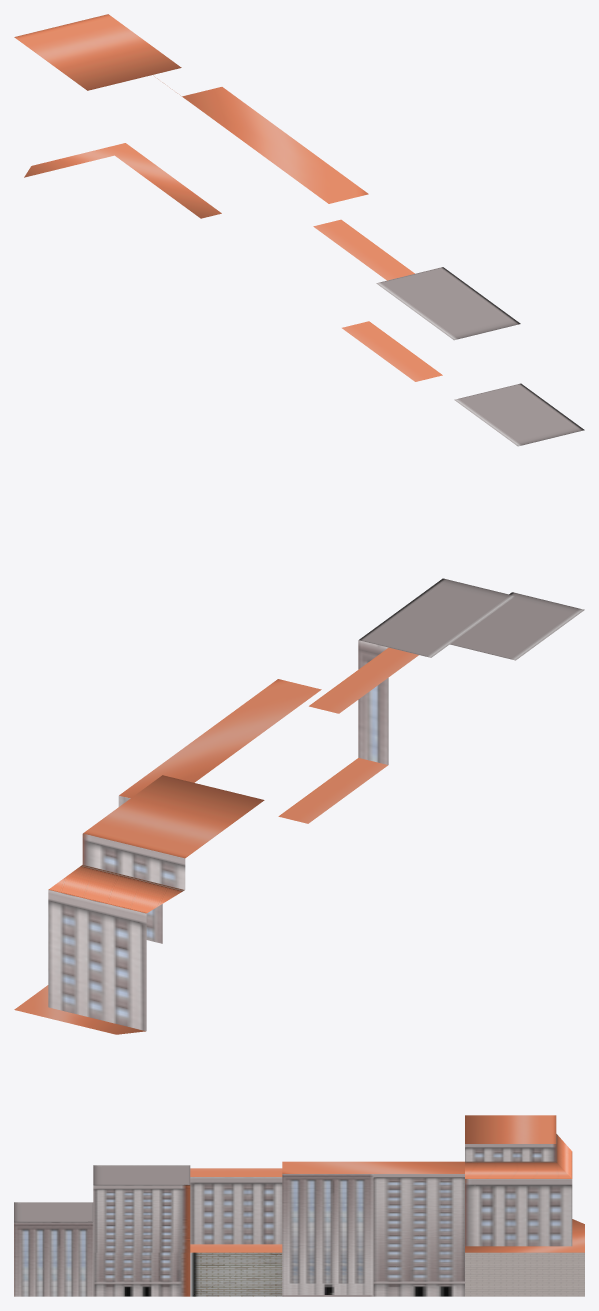
3 renders of one model, top to bottom at view 1: azimuth 30°, elevation 25°; view 2: azimuth 150°, elevation 25°; view 3: azimuth 270°, elevation 25°, orthographic. The views are drawn at different scales.
Parts seen in each view (by area): view 1: Object23; view 2: Object23; view 3: Object23.
Boxes of the visible parts, x1,y1,x2,y2 form: Object23: (14, 14, 584, 446); Object23: (14, 578, 584, 1034); Object23: (14, 1115, 584, 1296).
Bounding box in the file's own units: 1643 × 2636 × 9698.
5 materials, 5 textured.
